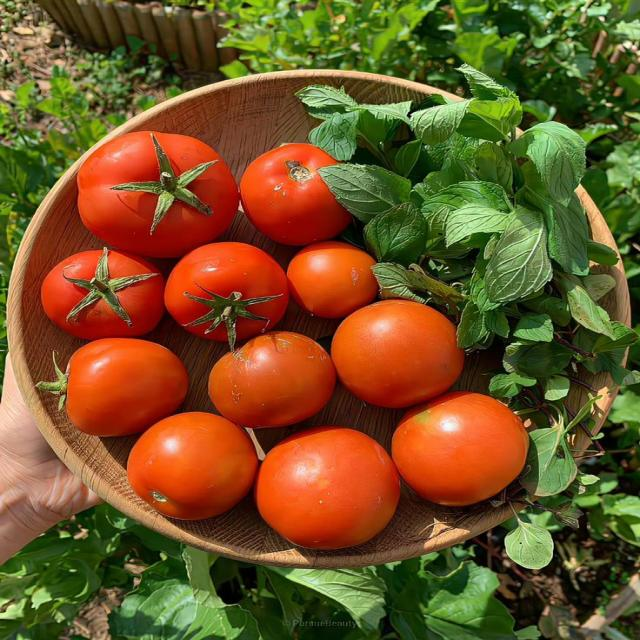tomato: (78, 131, 239, 257), (255, 427, 399, 548), (393, 392, 528, 505), (39, 339, 187, 436), (127, 412, 258, 520), (332, 300, 464, 407), (165, 243, 289, 348), (209, 332, 335, 427), (41, 249, 165, 340), (240, 144, 351, 245), (287, 242, 378, 318)
